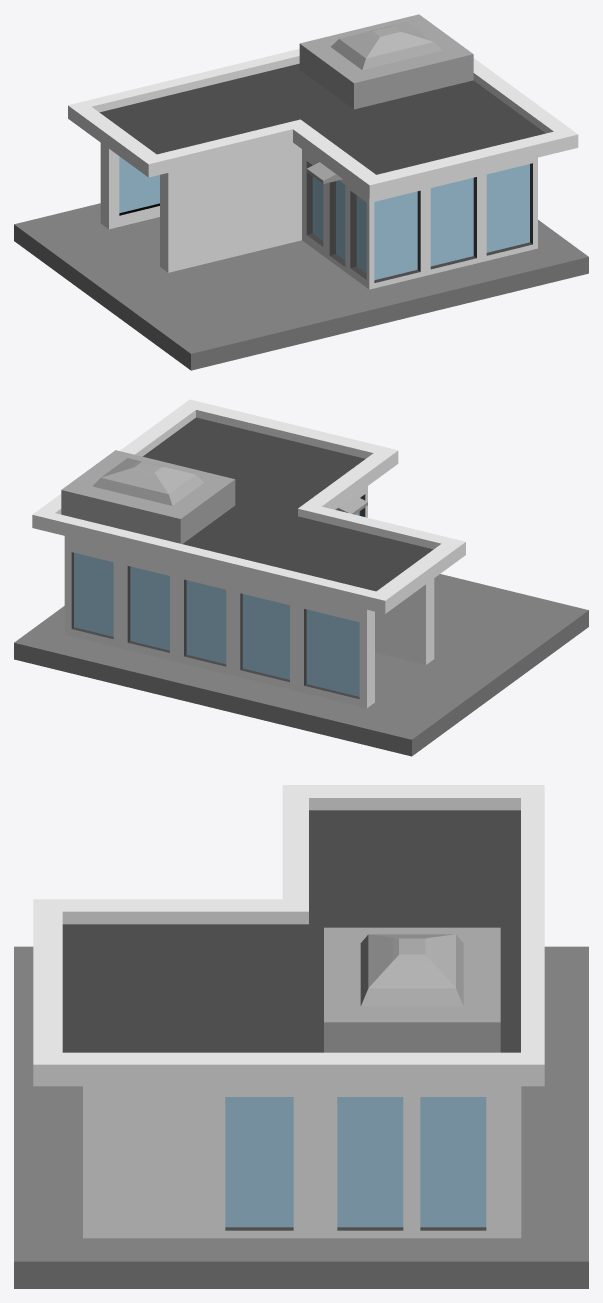
File: policestation.fbx
3 views of the same model, one above another, from view 1: azimuth 30°, elevation 25°; view 2: azimuth 150°, elevation 25°; view 3: azimuth 270°, elevation 25° (orthographic). The views are drawn at different scales.
Visible parts, largest first — view 1: police sttion; view 2: police sttion; view 3: police sttion.
Boxes of the visible parts, x1,y1,x2,y2 form: police sttion: (14, 14, 588, 370); police sttion: (14, 399, 588, 756); police sttion: (14, 785, 588, 1288).
Bounding box in the file's own units: 260 × 107 × 200.
